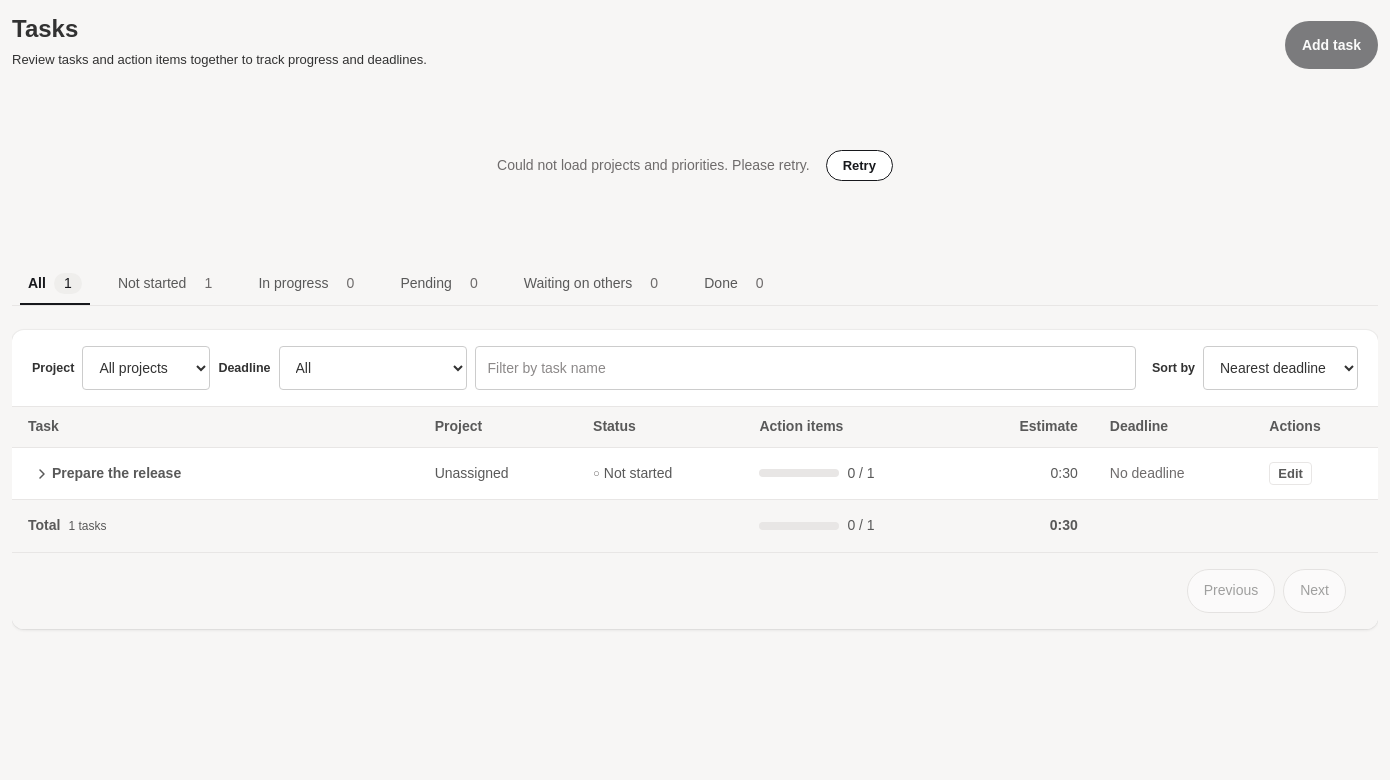
Test: retries unavailable project filters without requesting unrelated form options
Expected: the message "Could not load projects and priorities. Please retry. Retry" is shown, top-left (497, 150), bottom-right (893, 181)
Expected: the button "Add task" is disabled, top-left (1285, 21), bottom-right (1378, 69)
Click the button "Retry": click(859, 165) top-left (826, 150), bottom-right (893, 181)
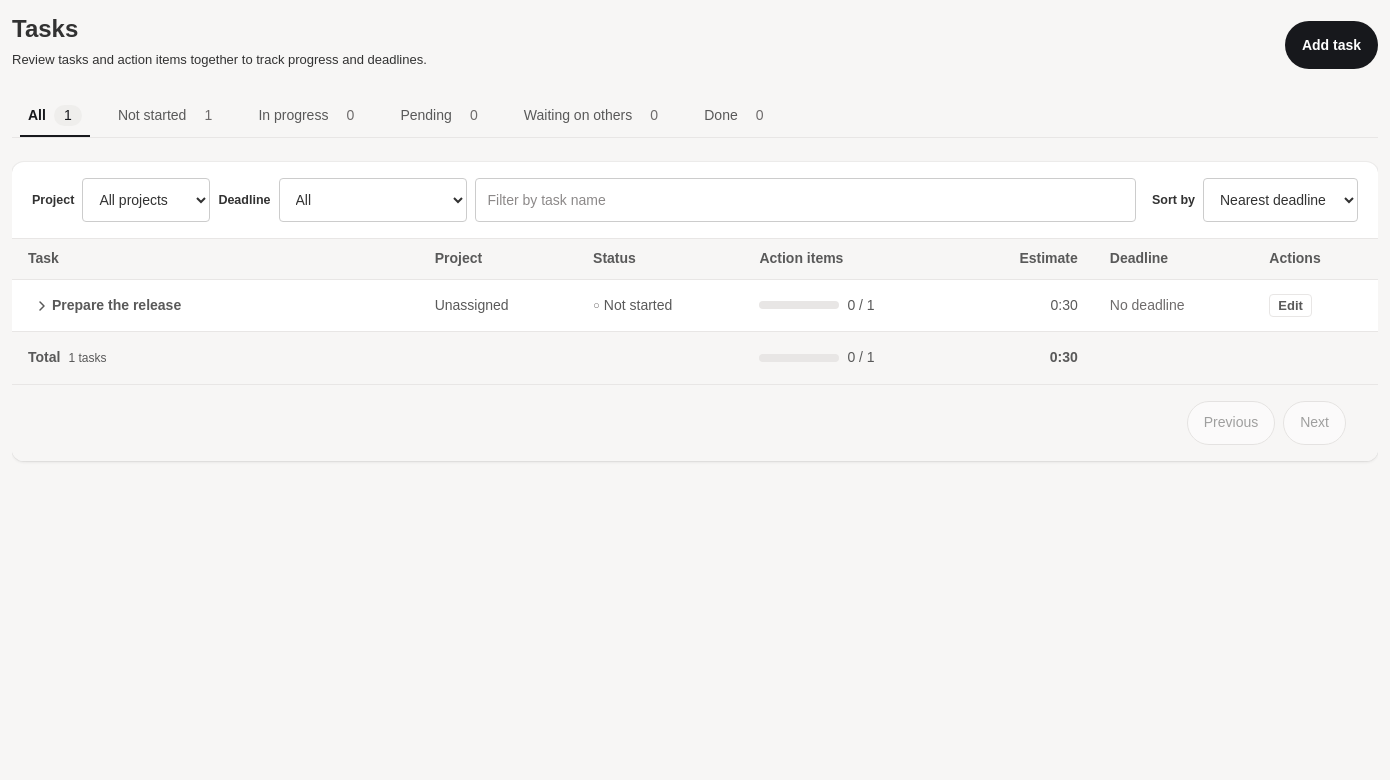
Result: the button "Add task" is enabled at top-left (1285, 21), bottom-right (1378, 69)
Result: the message "Could not load projects and priorities. Please retry. Retry" is gone
